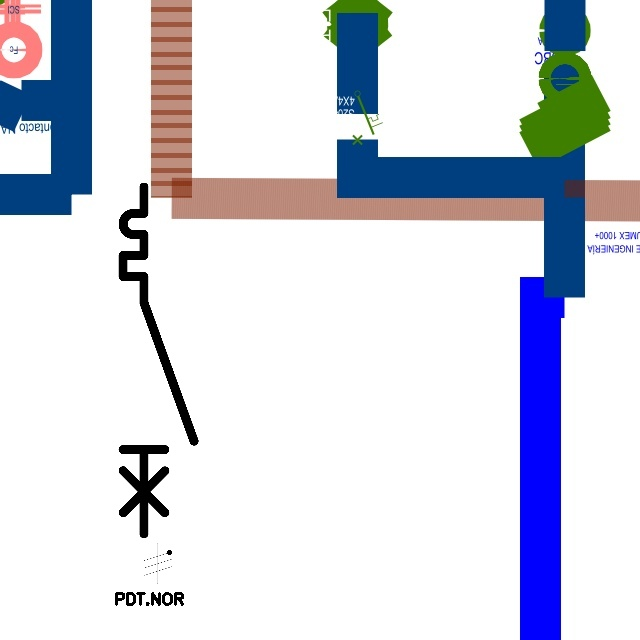interruptor_termomagnetico: (114, 178, 203, 542)
